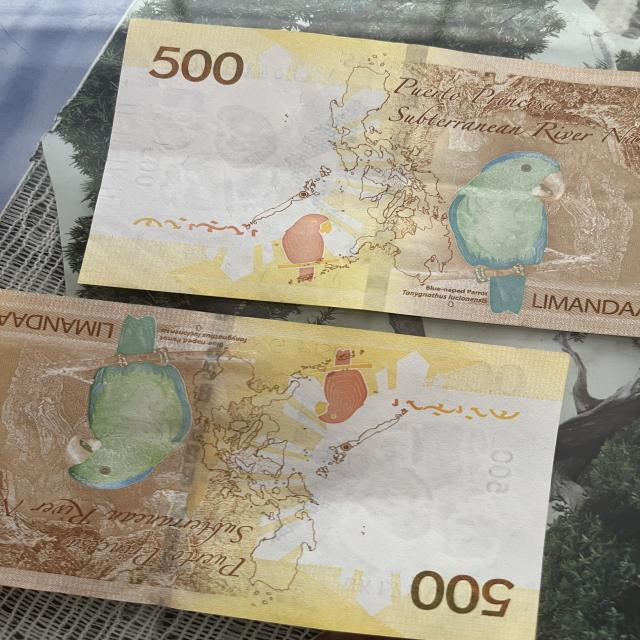500_big_parrot: (66, 312, 196, 492), (451, 148, 572, 314)
500_parrot_watermark: (310, 343, 379, 426), (272, 215, 337, 282)
value_watermark: (477, 449, 516, 497), (136, 144, 164, 188)
watermark: (342, 424, 524, 568), (140, 84, 298, 215)
